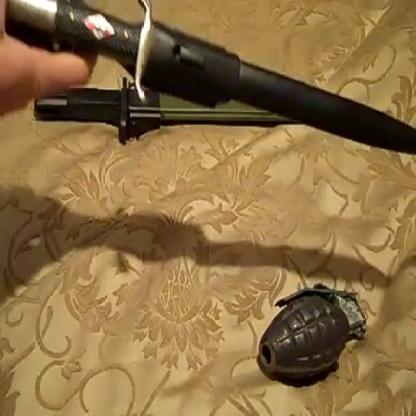Grenade: (254, 286, 366, 375)
Knife: (6, 0, 416, 154), (32, 84, 310, 137)
